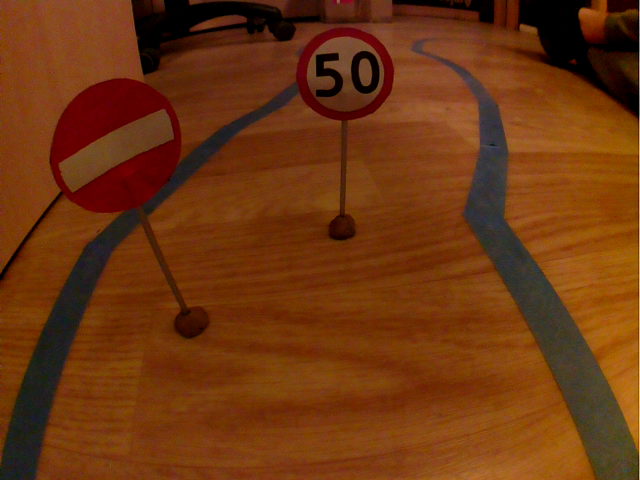Ograniczenie 50: (294, 22, 399, 126)
Zakaz: (45, 70, 187, 218)
